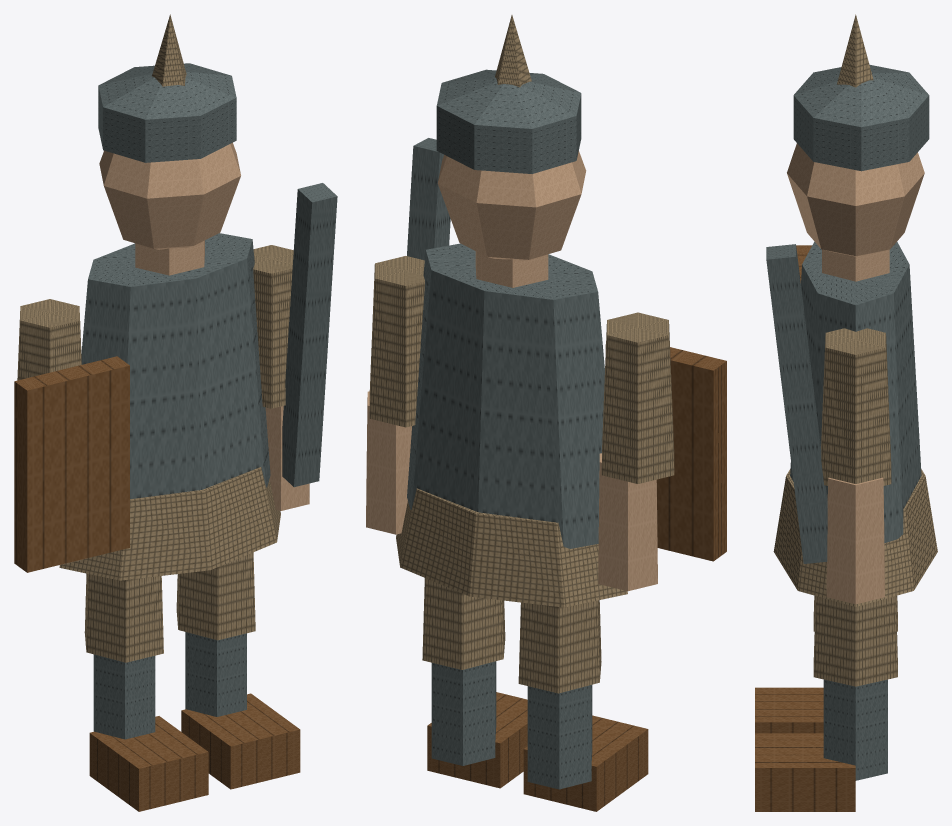
Rendered from unit-SWORD-lod1.glb.
3 views of the same model, side by side, from view 1: azimuth 30°, elevation 25°; view 2: azimuth 150°, elevation 25°; view 3: azimuth 270°, elevation 25° (orthographic). The views are drawn at different scales.
Bounding box in the file's own units: 0.198 × 0.448 × 0.098.
1 material, 1 textured.
